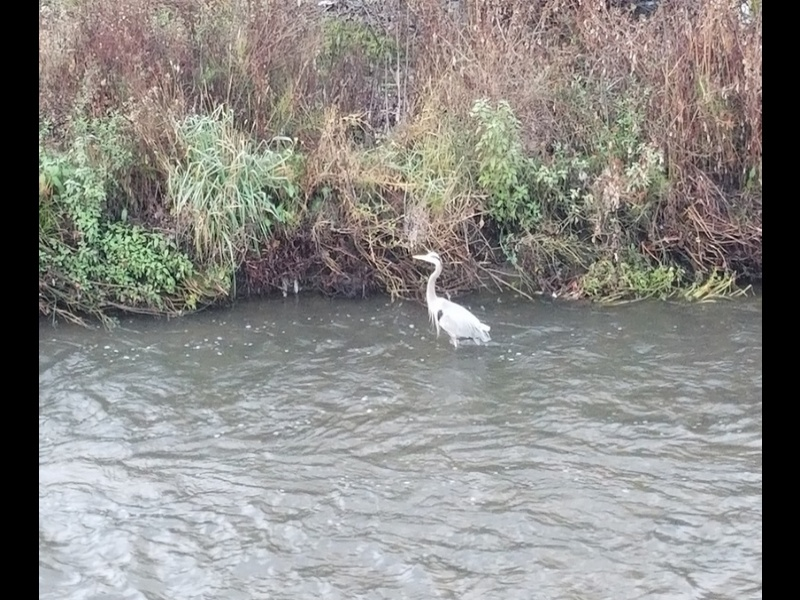heron: (410, 251, 491, 349)
